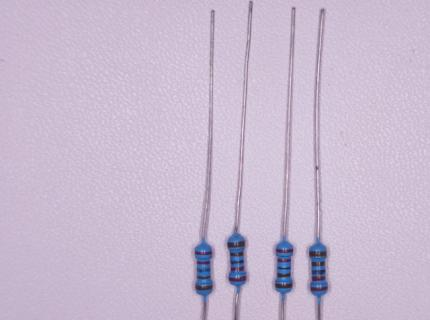Black band: (231, 260, 244, 265), (313, 270, 326, 274), (198, 268, 210, 272), (278, 267, 291, 269)
Brown band: (227, 241, 245, 247), (309, 251, 326, 257), (276, 283, 292, 288), (195, 286, 213, 290), (312, 262, 325, 267), (230, 252, 243, 256), (277, 274, 291, 277), (198, 276, 211, 279)
Red band: (311, 286, 328, 291), (230, 276, 246, 281), (312, 276, 326, 281), (195, 251, 212, 255), (276, 249, 293, 253), (231, 267, 245, 271), (277, 259, 292, 262), (197, 261, 210, 264)
